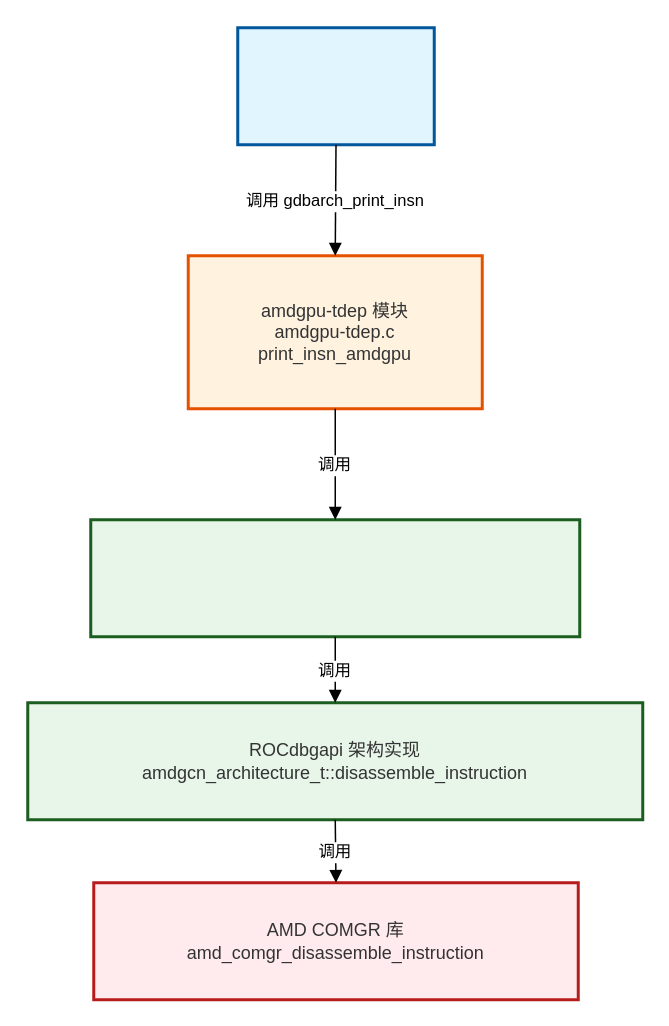
This 669x1026 diagram has some shape labels left out. Each missing label, with the centre of its shape:
GDB 核心 gdbarch.c: (x=335, y=86)
ROCdbgapi 公开 API amd_dbgapi_disassemble_instruction: (x=334, y=578)
